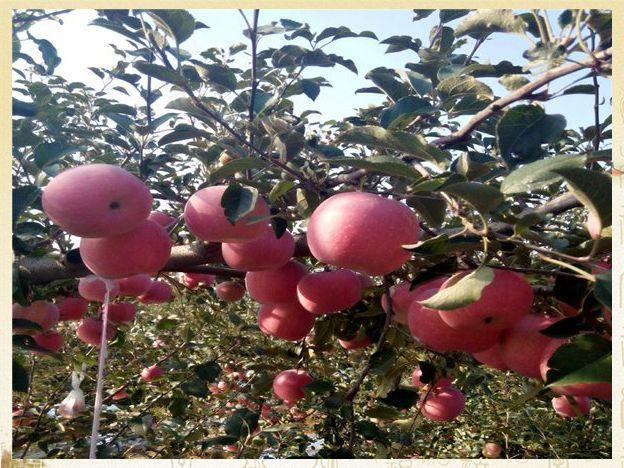apple: (304, 191, 418, 274), (41, 163, 150, 237), (437, 269, 533, 329), (80, 217, 168, 276), (184, 184, 269, 242), (474, 315, 552, 376), (223, 231, 294, 272), (298, 272, 362, 315), (246, 260, 310, 303), (257, 303, 315, 342), (422, 383, 463, 419), (13, 298, 59, 328), (273, 368, 311, 403)
